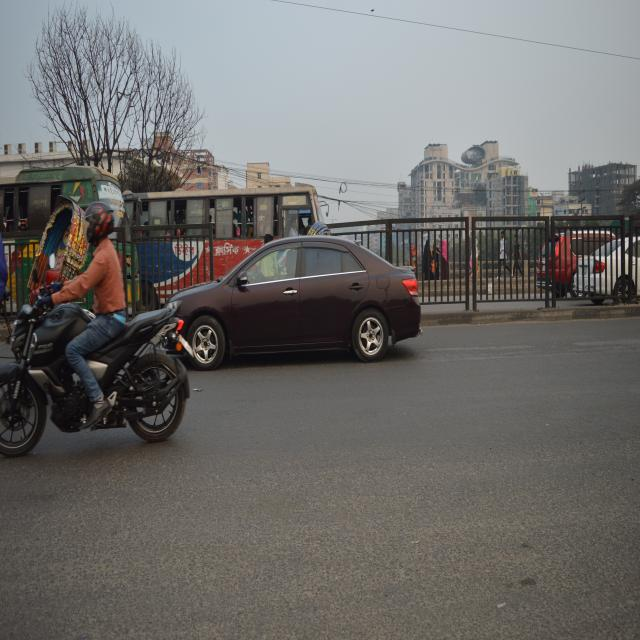bus: (122, 182, 322, 284), (0, 165, 124, 296)
car: (176, 231, 422, 367), (578, 231, 640, 310), (533, 224, 598, 287)
motorbike: (0, 294, 186, 472)
